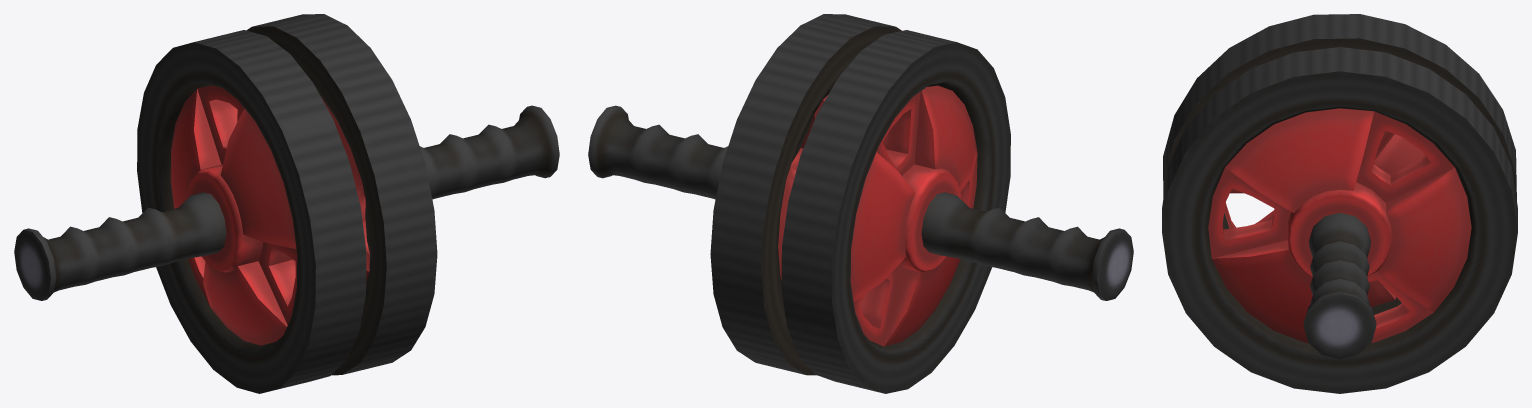
The model's file is MSH_AbWheel.FBX.
3 views of the same model, side by side, from view 1: azimuth 30°, elevation 25°; view 2: azimuth 150°, elevation 25°; view 3: azimuth 270°, elevation 25° (orthographic).
Parts seen in each view (by area): view 1: MSH_AbWheel; view 2: MSH_AbWheel; view 3: MSH_AbWheel.
Part boxes in pixels (x1,y1,x2,y2): MSH_AbWheel: [14, 14, 559, 393]; MSH_AbWheel: [588, 14, 1133, 393]; MSH_AbWheel: [1162, 14, 1517, 393].
Size of what is drawn, in the model's own units: 34.46 by 20.93 by 20.93.
